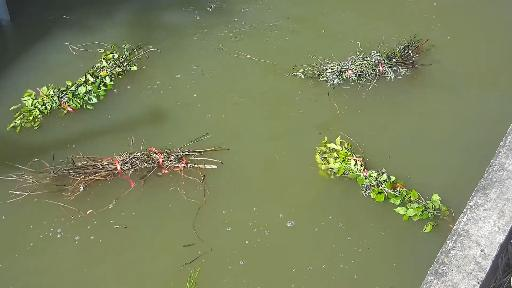twig: (3, 146, 235, 213), (5, 37, 169, 130), (318, 135, 453, 227), (285, 40, 446, 93)
